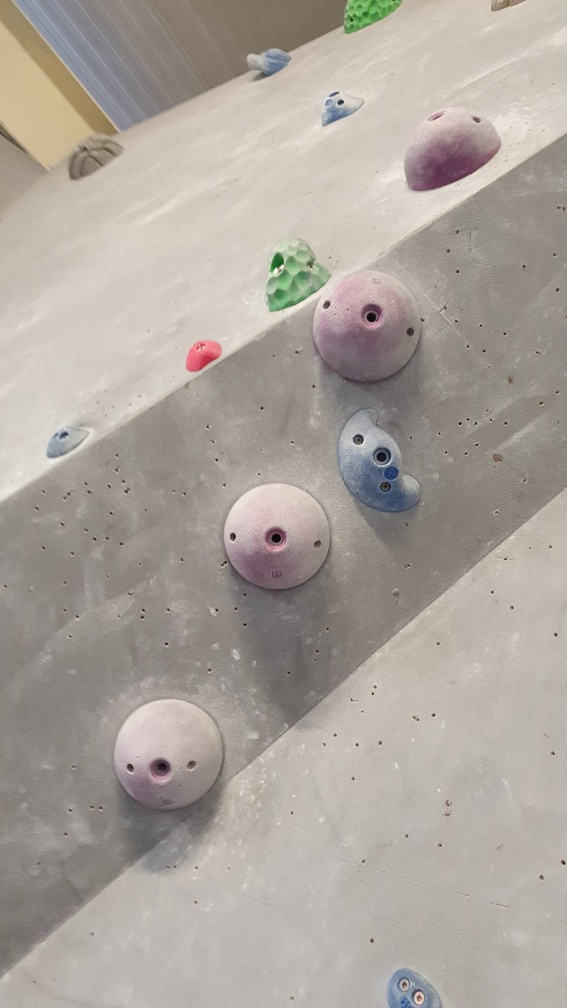Jug: (337, 404, 425, 516), (264, 233, 333, 315), (245, 43, 294, 76)
Sloper: (314, 267, 425, 384), (116, 696, 226, 812), (225, 479, 335, 594), (400, 102, 506, 197)
